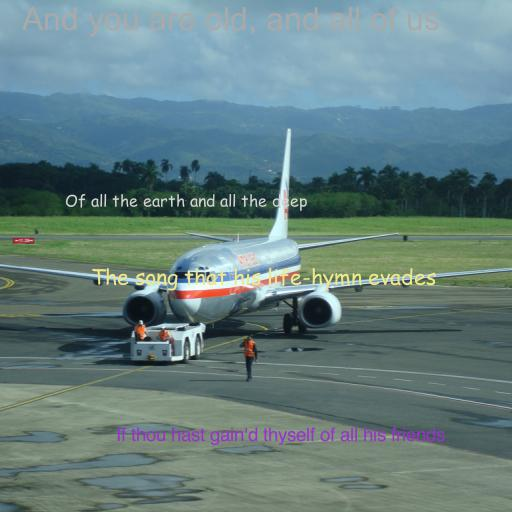Arial: (22, 6, 440, 37)
Big Caslon: (115, 427, 445, 446)
Comic Sans MS: (90, 267, 436, 291), (64, 193, 308, 212)
